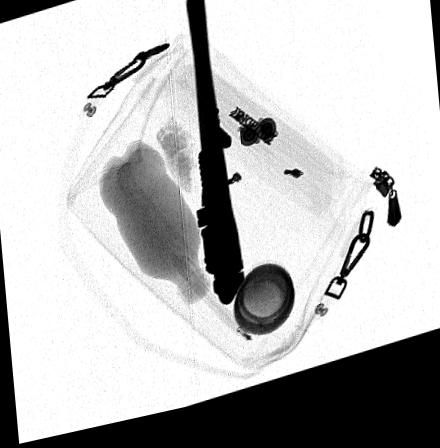Wrench: (186, 0, 246, 316)
